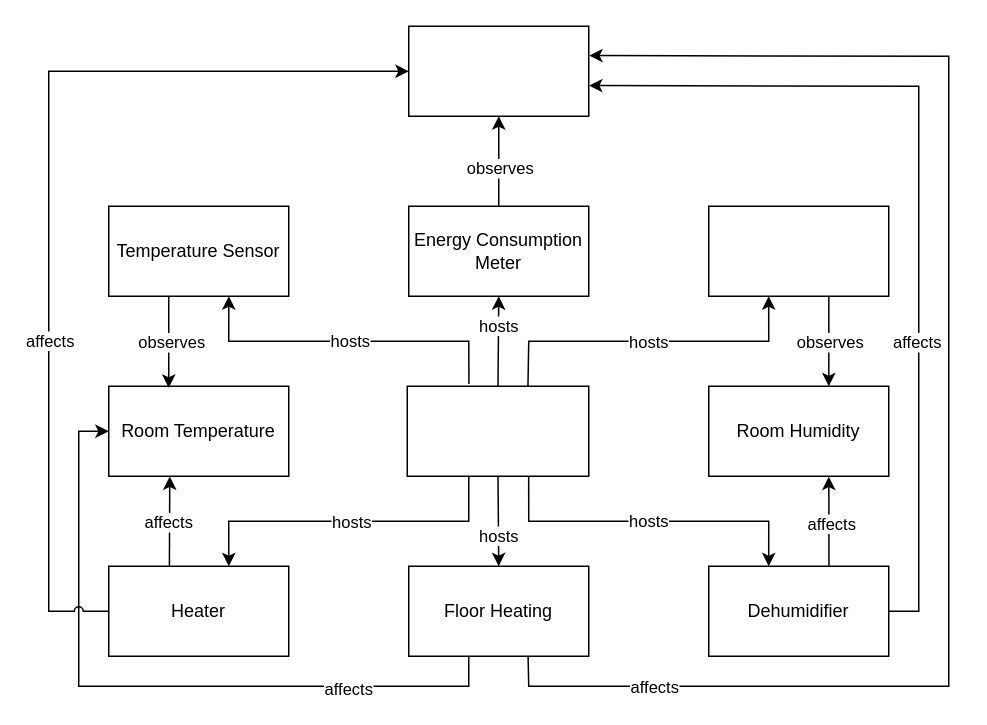
Some shapes in this 987 by 725 pixel diagram are drawn without their labels. Each missing label, with the box of its shape:
Energy Consumption: (407, 25, 589, 116)
Humidity Sensor: (707, 205, 889, 296)
Office Room M370 (Virtual Model): (406, 385, 589, 476)
